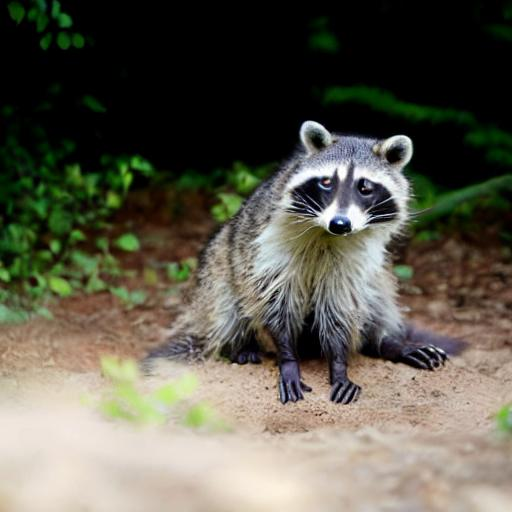raccoon: (145, 119, 422, 367)
